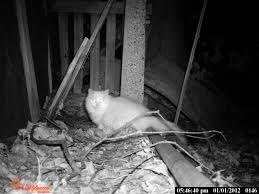house cat: (74, 76, 200, 137)
